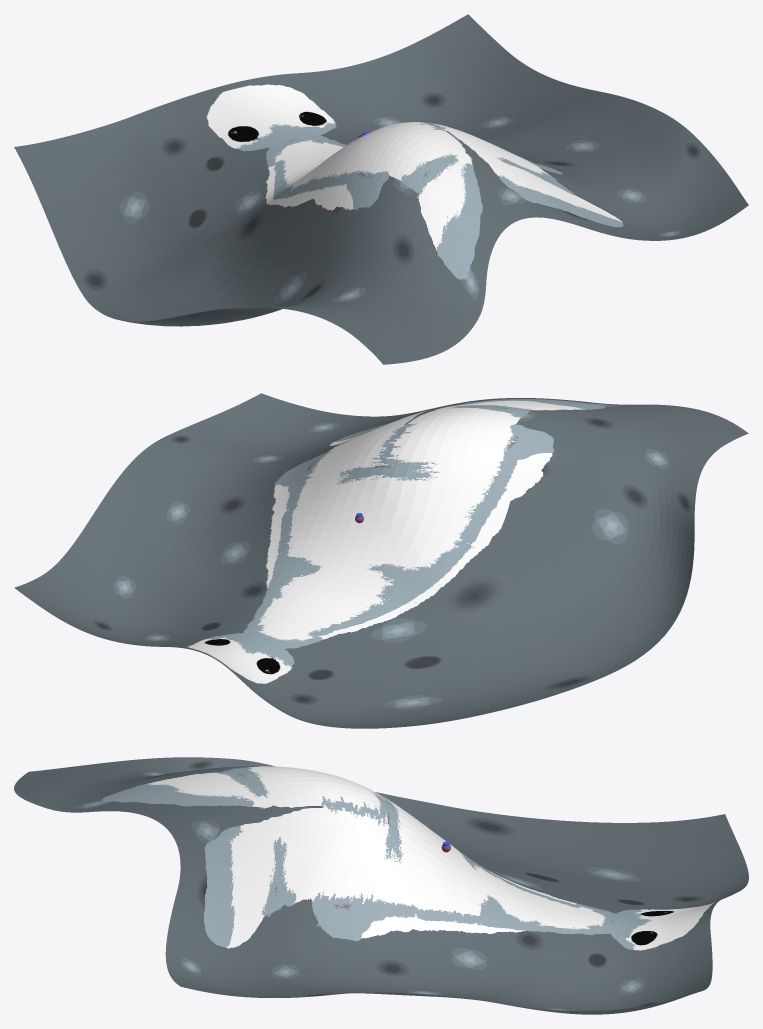
File: mvp.glb
3 renders of one model, top to bottom at view 1: azimuth 30°, elevation 25°; view 2: azimuth 150°, elevation 25°; view 3: azimuth 270°, elevation 25°, orthographic. The views are drawn at different scales.
Visible parts, largest first — view 1: Plane [collider]; view 2: Plane [collider]; view 3: Plane [collider].
Boxes of the visible parts, box(x1,y1,x2,y2) form: Plane [collider]: box(14, 14, 748, 364); Plane [collider]: box(14, 393, 748, 728); Plane [collider]: box(14, 757, 748, 1014).
Bounding box in the file's own units: 639 × 176 × 758.
Materials: 3 (1 with a texture image).
